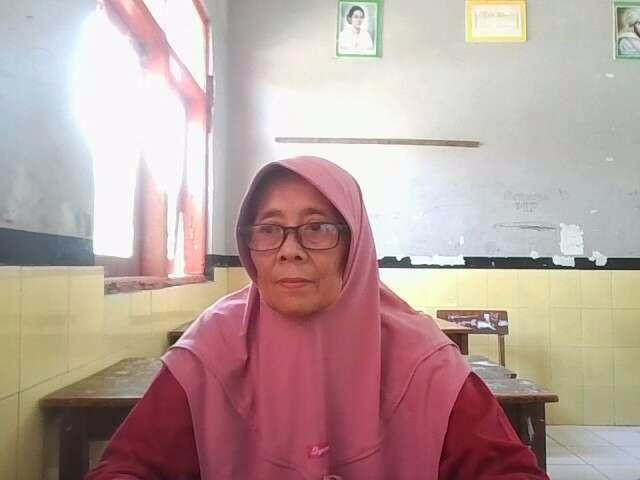cheating: (82, 141, 569, 480)
